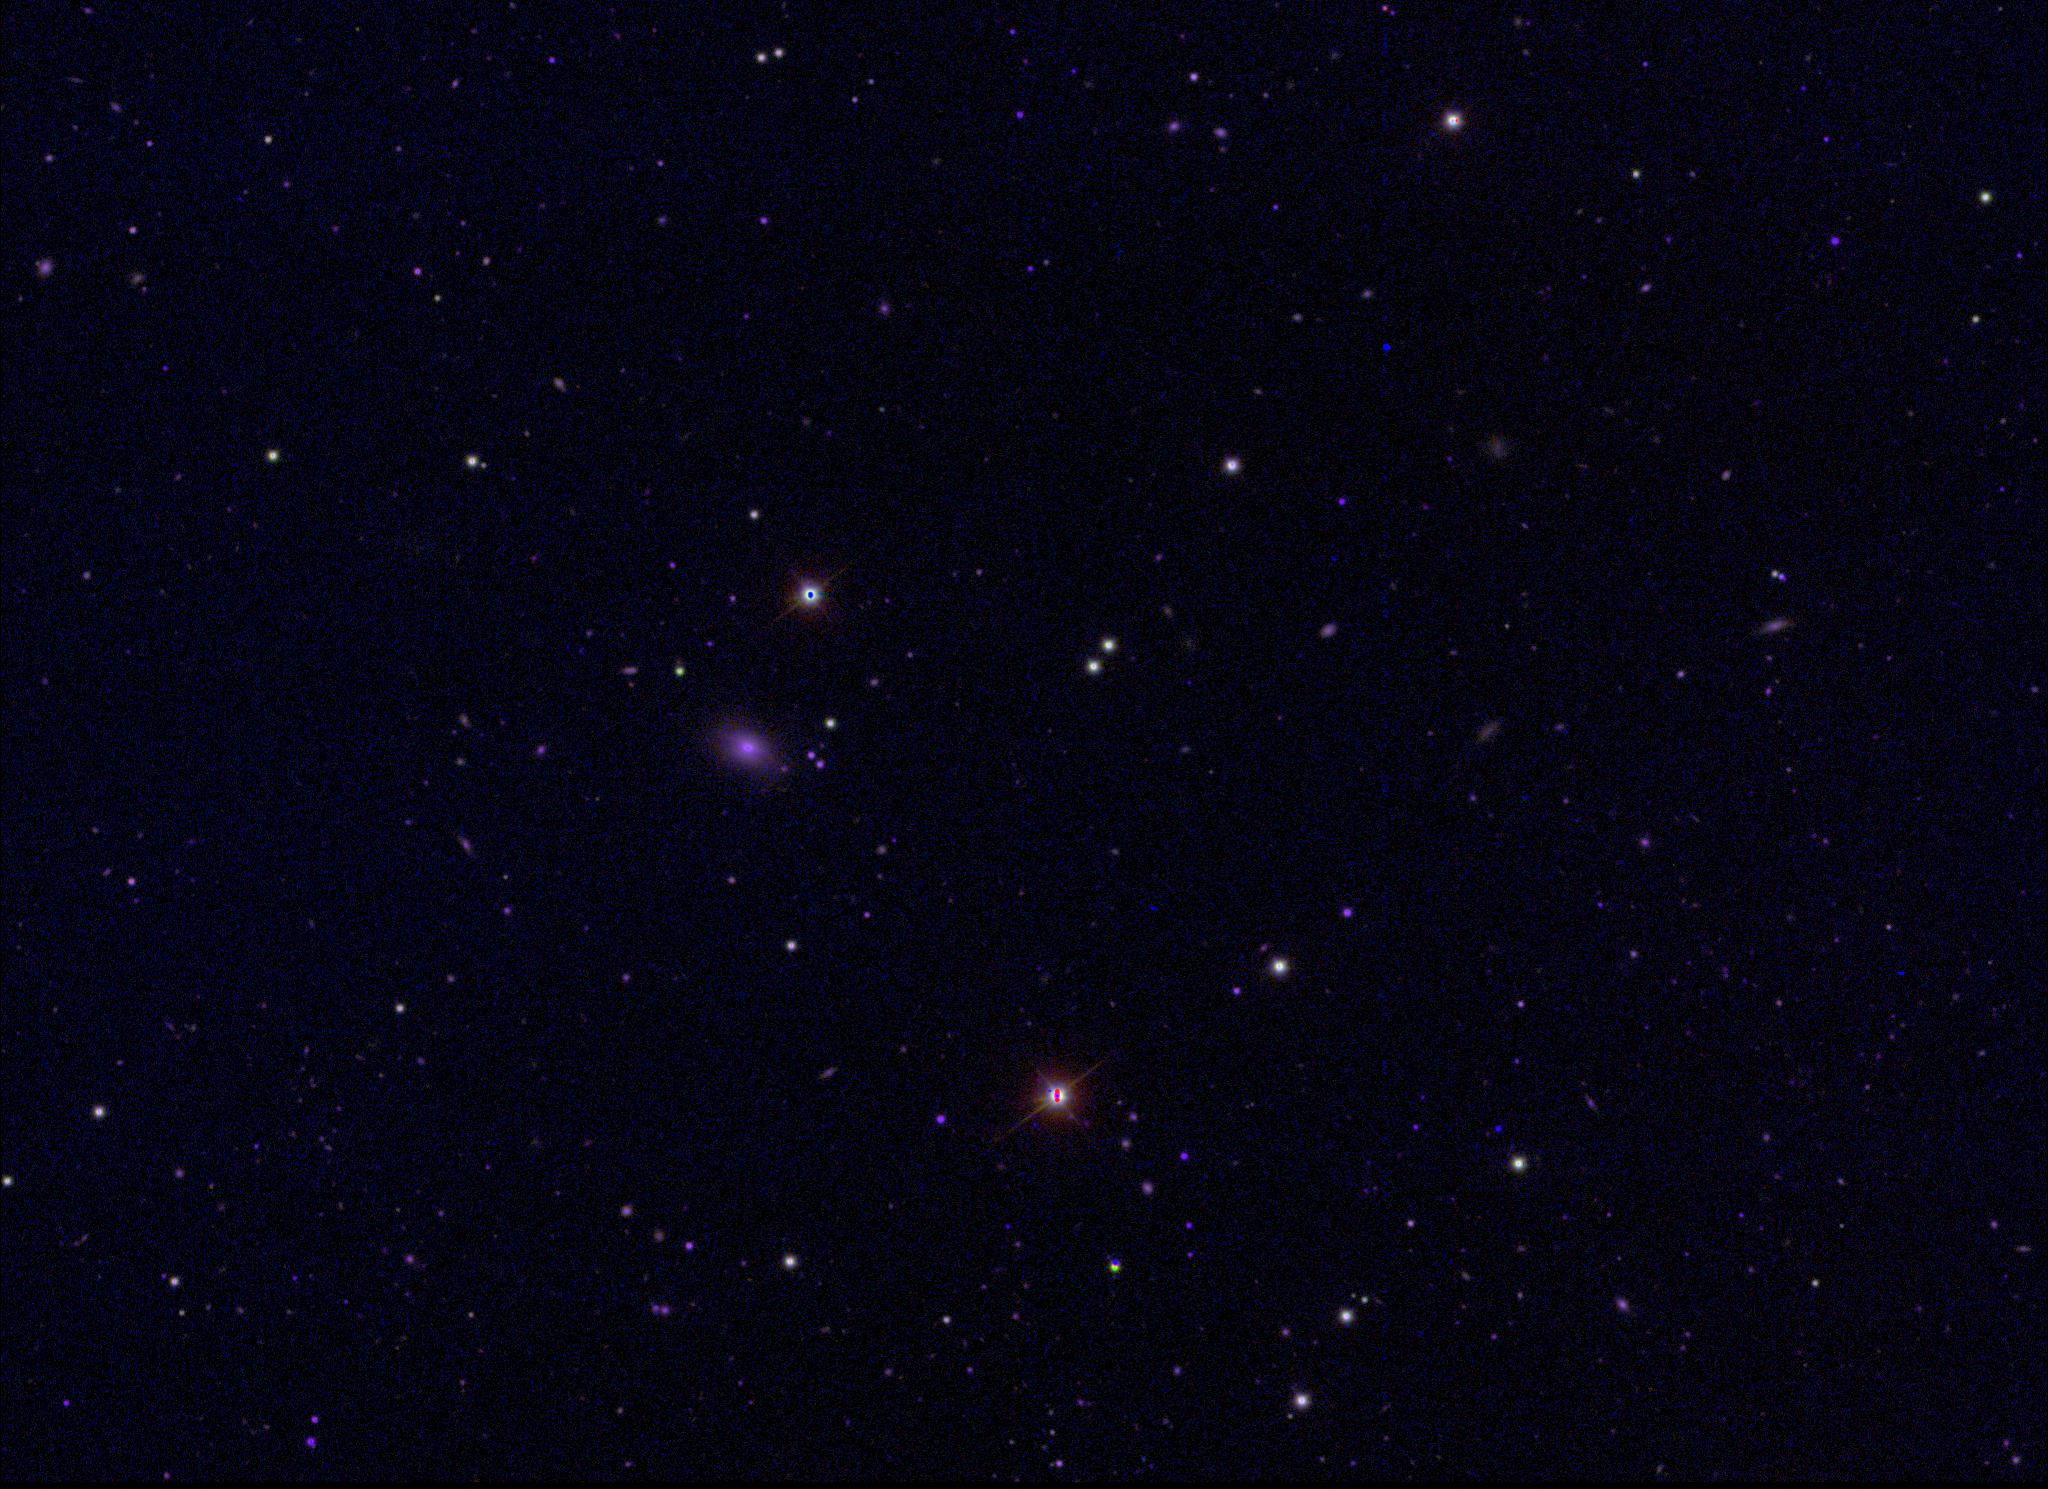L: (1491, 1122, 1506, 1136)
